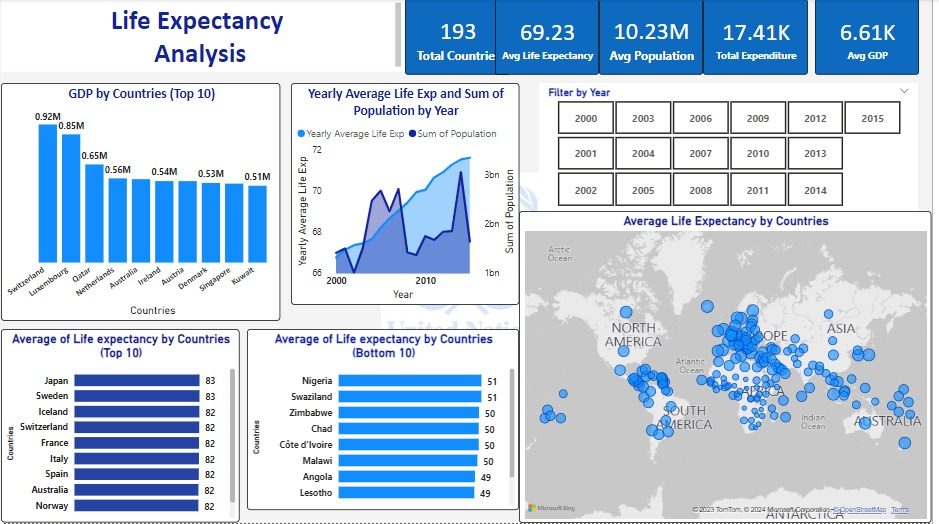

The page's visual inventory and layout, read from the dashboard file:
{"tool":"powerbi","page":{"name":"Page 1","canvas":[1280,720],"ordinal":0},"visuals":[{"type":"card","fields":{"Values":["DAX.Total Countries"]},"box":[555.8,0,144,103.7],"z":0},{"type":"card","fields":{"Values":["DAX.Avg Life Expectancy"]},"box":[679.7,0,142.6,103.7],"z":1000},{"type":"card","fields":{"Values":["DAX.Avg Population"]},"box":[822.2,0,142.6,103.7],"z":2000},{"type":"card","fields":{"Values":["DAX.Total Expenditure"]},"box":[964.8,0,144,103.7],"z":3000},{"type":"card","fields":{"Values":["DAX.Avg GDP"]},"box":[1118.9,0,142.6,103.7],"z":4000},{"type":"columnChart","title":"GDP by Countries (Top 10)","fields":{"Category":["Life Expectancy Data (Power BI Assignment).Countries"],"Y":["Sum(Life Expectancy Data (Power BI Assignment).GDP)"]},"box":[0,115.2,384.5,326.9],"z":5000},{"type":"areaChart","fields":{"Category":["Life Expectancy Data (Power BI Assignment).Year"],"Y":["DAX.Yearly Average Life Exp"],"Y2":["Sum(Life Expectancy Data (Power BI Assignment).Population)"]},"box":[398.9,115.2,313.9,305.3],"z":6000},{"type":"map","title":"Average Life Expectancy by Countries","fields":{"Category":["Life Expectancy Data (Power BI Assignment).Countries"],"Size":["DAX.Avg Life Expectancy"]},"box":[712.8,290.9,567.4,429.1],"z":7000},{"type":"barChart","title":"Average of Life expectancy by Countries (Top 10)","fields":{"Y":["Avg(Life Expectancy Data (Power BI Assignment).Life expectancy)"],"Category":["Life Expectancy Data (Power BI Assignment).Countries"]},"box":[0,453.6,328.3,266.4],"z":8000},{"type":"actionButton","box":[0,0,100,40],"z":9000},{"type":"textbox","box":[31.7,0,524.2,100.8],"z":10000},{"type":"barChart","title":"Average of Life expectancy by Countries (Bottom 10)","fields":{"Category":["Life Expectancy Data (Power BI Assignment).Countries"],"Y":["Avg(Life Expectancy Data (Power BI Assignment).Life expectancy)"]},"box":[338.4,453.6,374.4,249.1],"z":11000},{"type":"slicer","fields":{"Values":["Life Expectancy Data (Power BI Assignment).Year"]},"box":[740.2,115.2,521.3,175.7],"z":12000}]}

Visuals, with their boxes in screenshot pixels (x1, y1, x2, y2), scaled from the page's 1280x720 canvas onto the 939x524 screenshot:
card - DAX.Total Countries: left=408, top=0, right=513, bottom=75
card - DAX.Avg Life Expectancy: left=499, top=0, right=603, bottom=75
card - DAX.Avg Population: left=603, top=0, right=708, bottom=75
card - DAX.Total Expenditure: left=708, top=0, right=813, bottom=75
card - DAX.Avg GDP: left=821, top=0, right=925, bottom=75
"GDP by Countries (Top 10)" columnChart: left=0, top=84, right=282, bottom=322
areaChart - Life Expectancy Data (Power BI Assignment).Year x DAX.Yearly Average Life Exp: left=293, top=84, right=523, bottom=306
"Average Life Expectancy by Countries" map: left=523, top=212, right=938, bottom=523
"Average of Life expectancy by Countries (Top 10)" barChart: left=0, top=330, right=241, bottom=523
actionButton: left=0, top=0, right=73, bottom=29
textbox: left=23, top=0, right=408, bottom=73
"Average of Life expectancy by Countries (Bottom 10)" barChart: left=248, top=330, right=523, bottom=511
slicer - Life Expectancy Data (Power BI Assignment).Year: left=543, top=84, right=925, bottom=212
